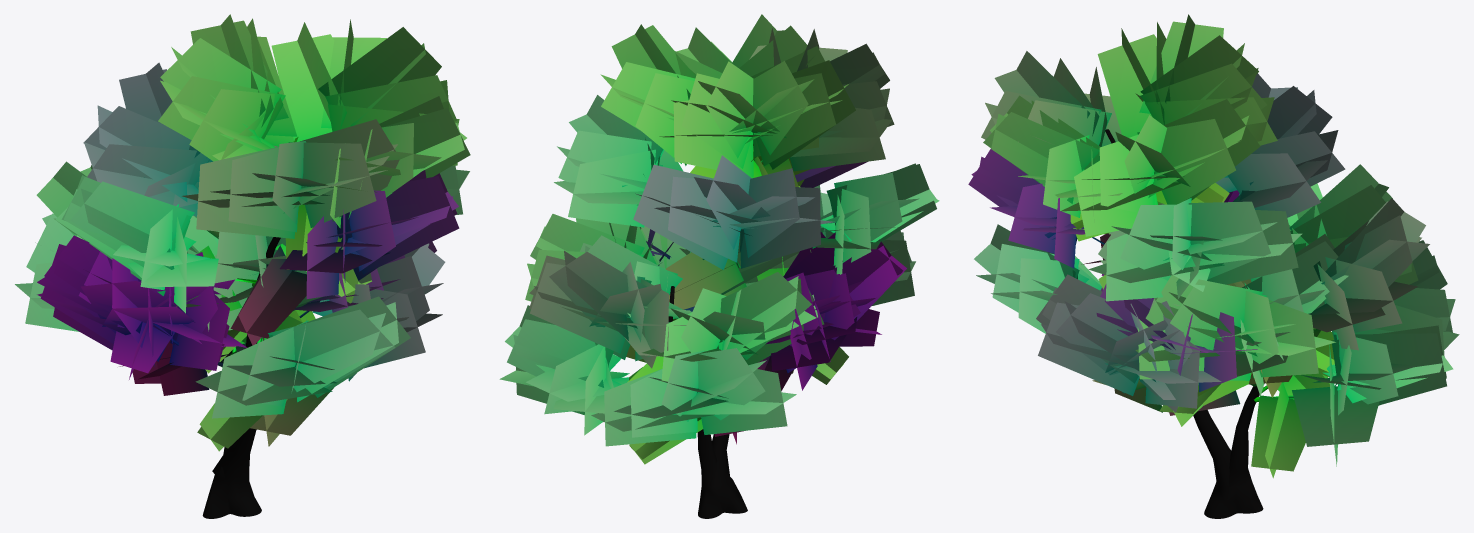
Rendered from Tree_3_8.fbx.
The picture shows the model from 3 angles, left to right: view 1: azimuth 30°, elevation 25°; view 2: azimuth 150°, elevation 25°; view 3: azimuth 270°, elevation 25°; orthographic projection. The views are drawn at different scales.
Parts seen in each view (by area): view 1: _8; view 2: _8; view 3: _8.
Part boxes in pixels (<box>): _8: <box>15,14,470,518</box>; _8: <box>499,14,939,518</box>; _8: <box>968,14,1459,518</box>.
Bounding box in the file's own units: 1744 × 2228 × 2107.
